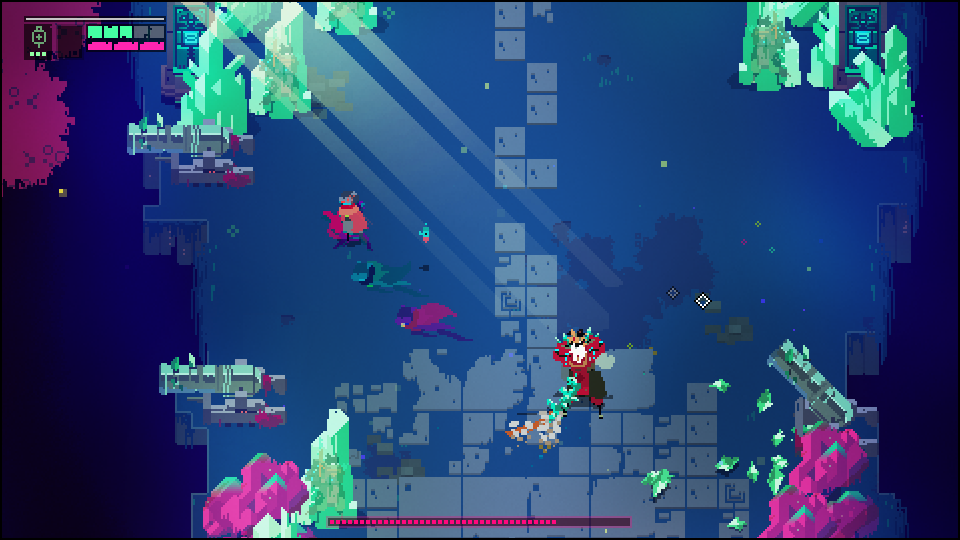hanged_man: (542, 328, 609, 423)
player: (335, 196, 365, 243)
